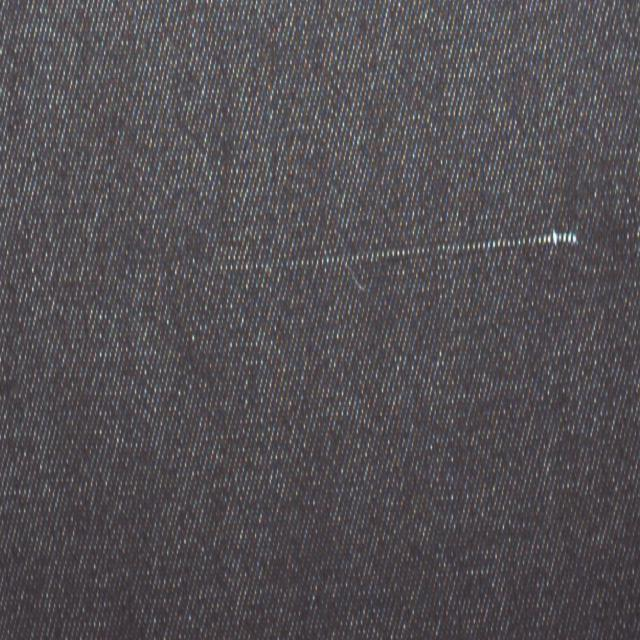Line: (203, 228, 577, 278)
